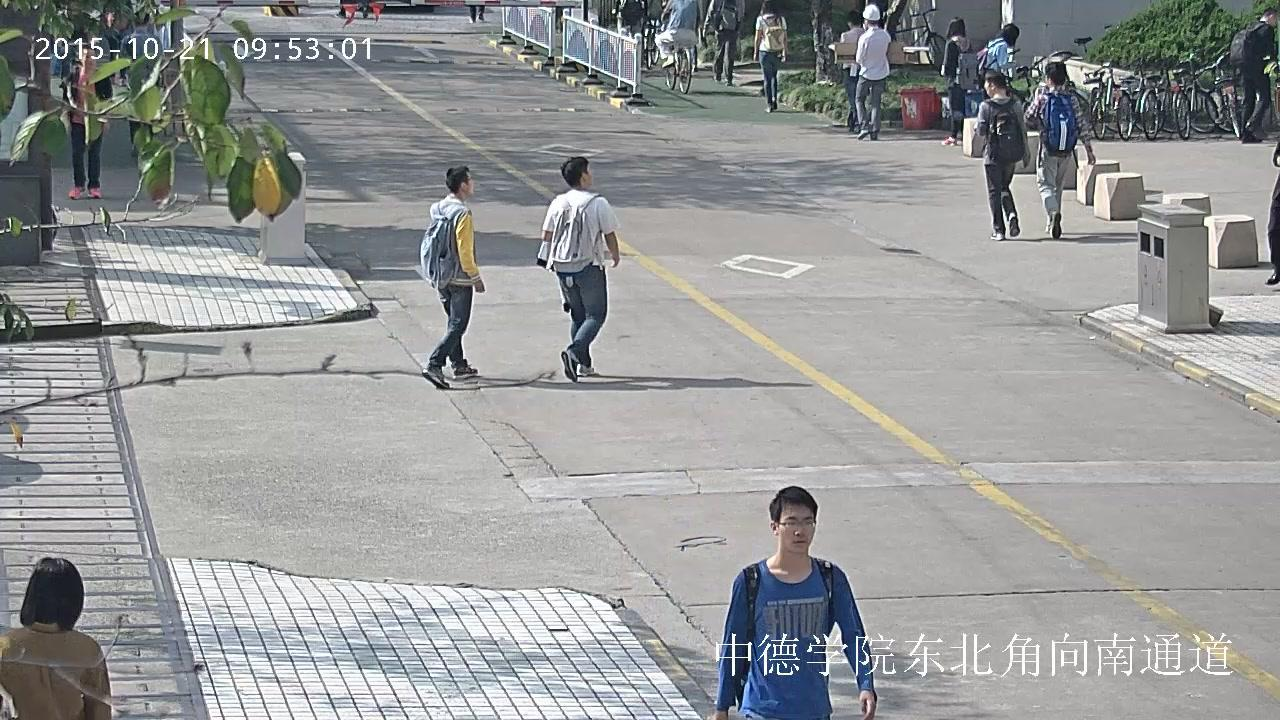face: (778, 504, 815, 551), (464, 174, 475, 197), (82, 49, 95, 66), (585, 162, 593, 184), (985, 80, 991, 96), (1270, 17, 1277, 26)
